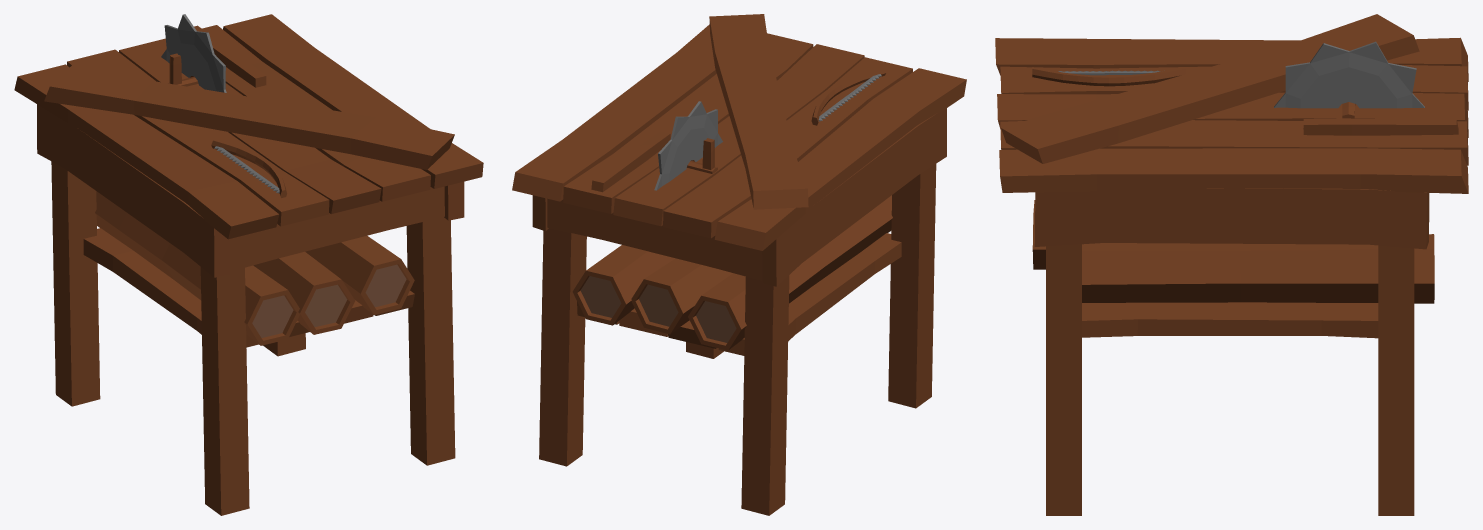
File: Table1.fbx
The picture shows the model from 3 angles, left to right: view 1: azimuth 30°, elevation 25°; view 2: azimuth 150°, elevation 25°; view 3: azimuth 270°, elevation 25°; orthographic projection. The views are drawn at different scales.
Parts seen in each view (by area): view 1: Sawbench_Logs; view 2: Sawbench_Logs; view 3: Sawbench_Logs.
Boxes of the visible parts, x1,y1,x2,y2 form: Sawbench_Logs: (14, 14, 483, 515); Sawbench_Logs: (512, 14, 966, 515); Sawbench_Logs: (995, 14, 1468, 515).
Size of the model in its own units: 112 by 147 by 154.
